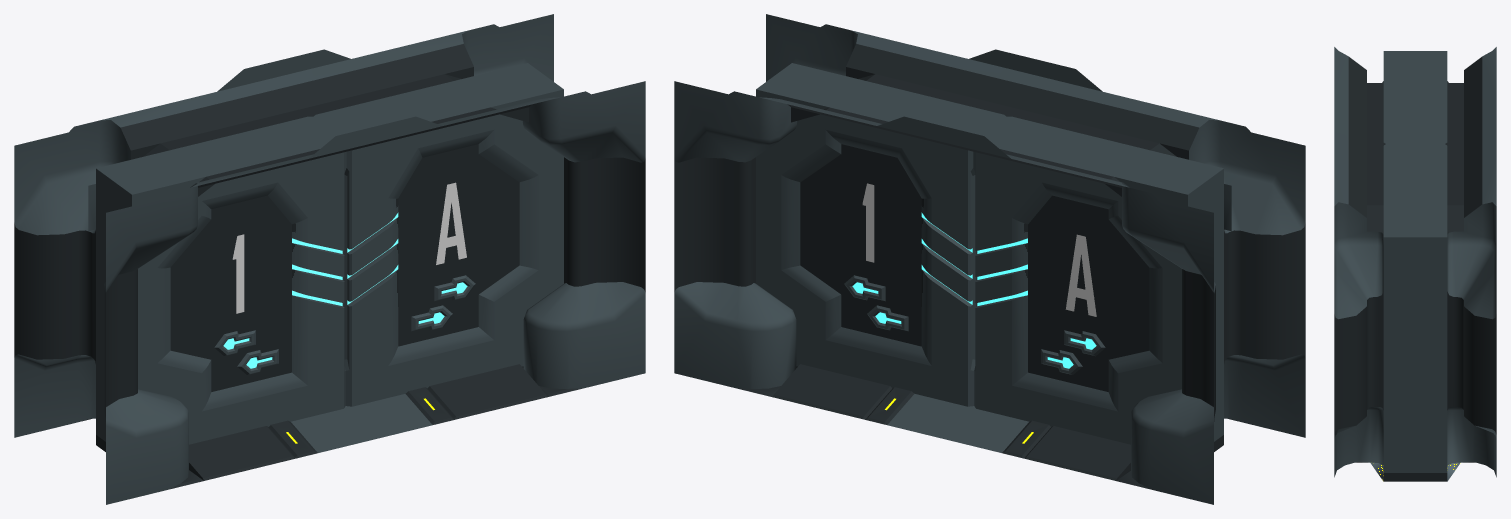
Rendered from door.fbx.
3 views of the same model, side by side, from view 1: azimuth 30°, elevation 25°; view 2: azimuth 150°, elevation 25°; view 3: azimuth 270°, elevation 25° (orthographic). The views are drawn at different scales.
Parts seen in each view (by area): view 1: doorColumns, doorLeft, doorRight, doorFloor, doorLeftLetter, doorRightNumber; view 2: doorColumns, doorLeft, doorRight, doorFloor, doorRightLetter, doorLeftNumber; view 3: doorColumns, doorLeft, doorRight, doorFloor.
Boxes of the visible parts, bbox=[...] form: doorColumns: bbox=[14, 14, 645, 504]; doorLeft: bbox=[313, 63, 563, 406]; doorRight: bbox=[96, 116, 346, 444]; doorFloor: bbox=[96, 364, 546, 480]; doorLeftLetter: bbox=[436, 182, 466, 264]; doorRightNumber: bbox=[232, 234, 244, 313]; doorColumns: bbox=[674, 14, 1305, 504]; doorLeft: bbox=[756, 63, 1006, 406]; doorRight: bbox=[973, 116, 1223, 444]; doorFloor: bbox=[773, 364, 1223, 480]; doorRightLetter: bbox=[1065, 234, 1096, 316]; doorLeftNumber: bbox=[862, 183, 874, 262]; doorColumns: bbox=[1334, 47, 1496, 481]; doorLeft: bbox=[1383, 144, 1447, 472]; doorRight: bbox=[1383, 51, 1447, 143]; doorFloor: bbox=[1383, 473, 1447, 481].
Size of what is drawn, in the model's own units: 6.8 by 2 by 3.77.
